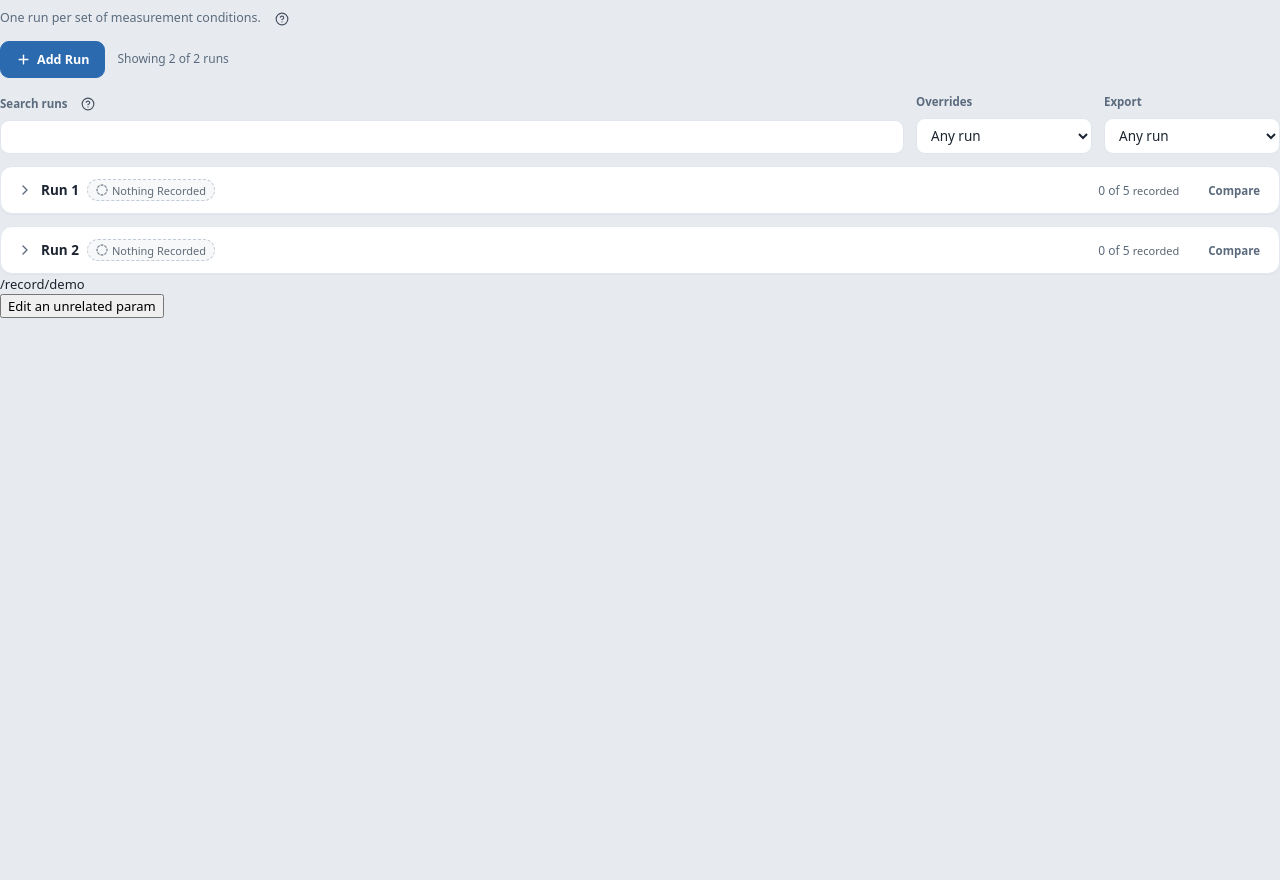
Test case: the request › agrees the verb with the count: "1 run remains", "2 runs remain"
The width and height of the screenshot is (1280, 880).
Expected: the text "Showing 2 of 2 runs" is shown, [117, 50, 229, 69]
Click the button named "Open ".
click(33, 259)  # box [1, 227, 1195, 273]
(page scrolled)
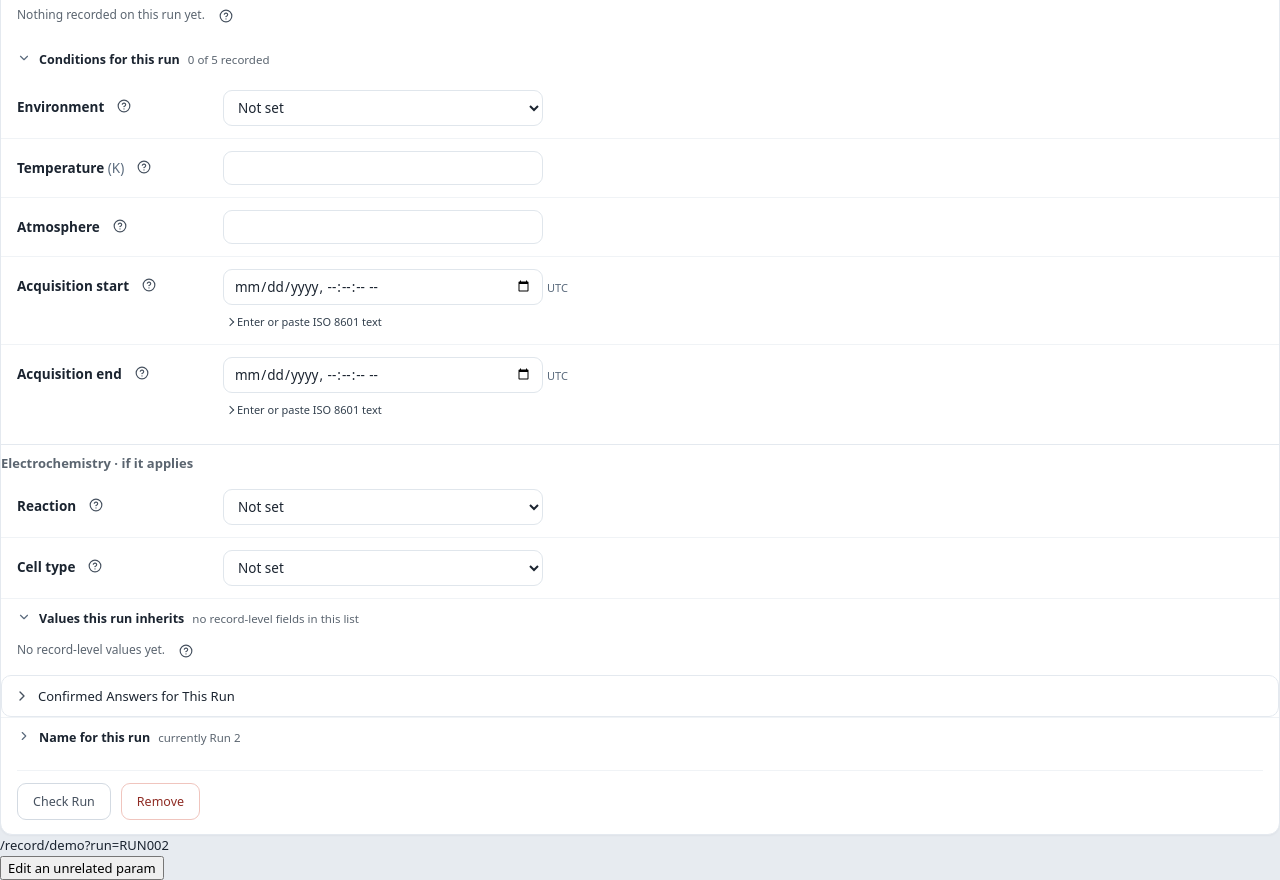
Click the button with aria-label "Remove run Run 2 from this record".
click(160, 802)  # box [121, 783, 200, 820]
(page scrolled)
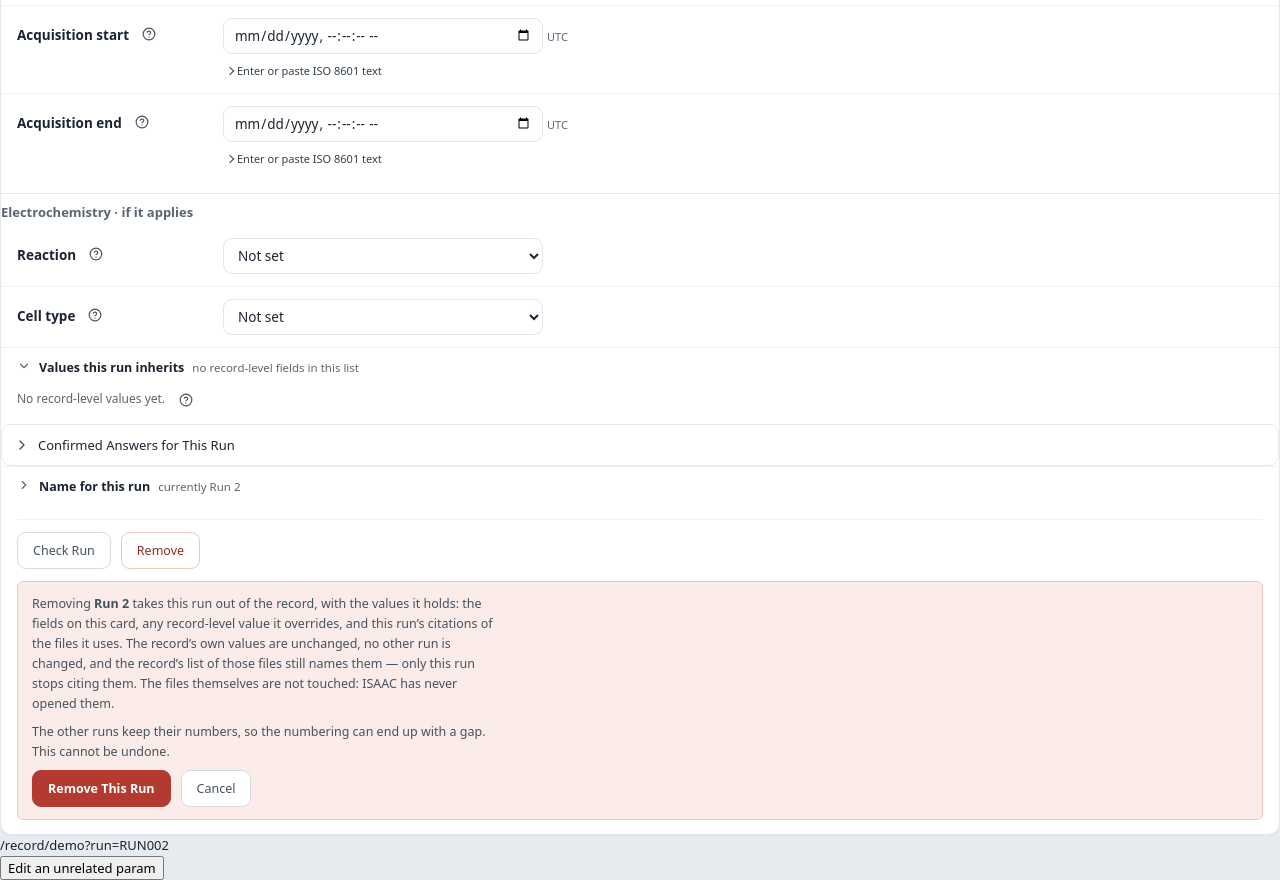
Click the button "Remove This Run".
click(101, 789)  # box [32, 770, 171, 807]
(page scrolled)
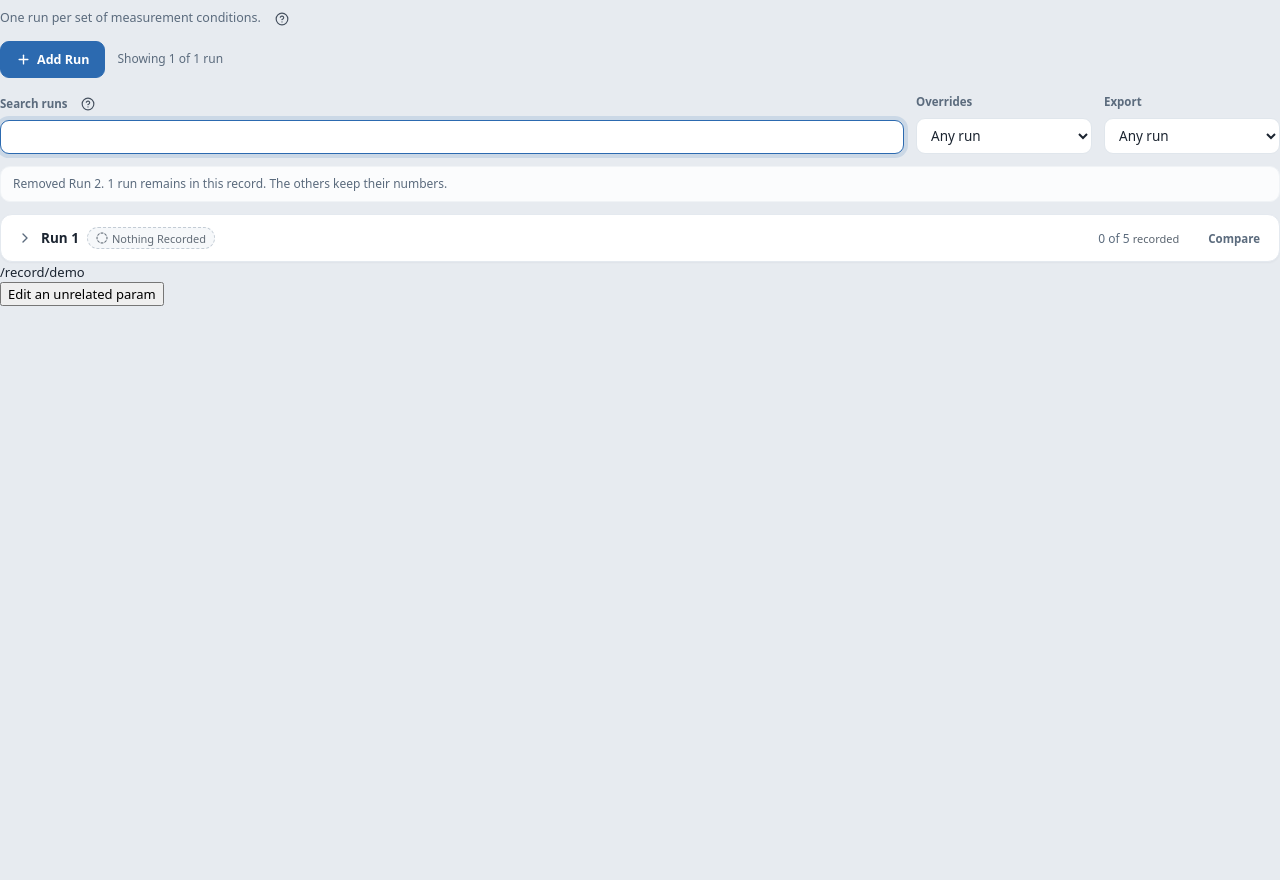
Expected: the text "Removed Run 2. 1 run remains in this record. The others keep their numbers." is shown, [0, 166, 1279, 202]
